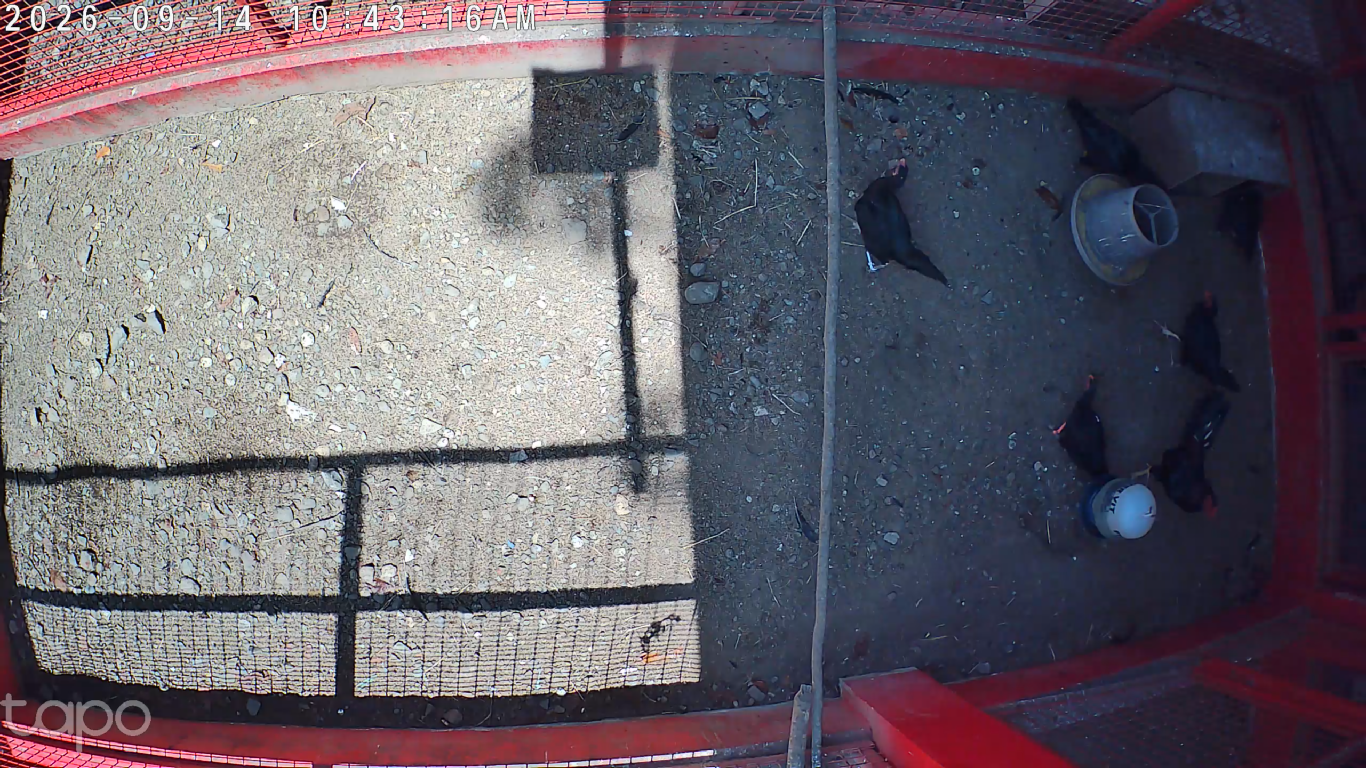Chicken: (840, 157, 950, 288), (1062, 95, 1171, 195), (1149, 288, 1244, 396), (1048, 371, 1114, 483)
Drinker: (1079, 475, 1163, 540)
Feeder: (1067, 173, 1183, 289)
Rooster: (1129, 390, 1230, 522)
